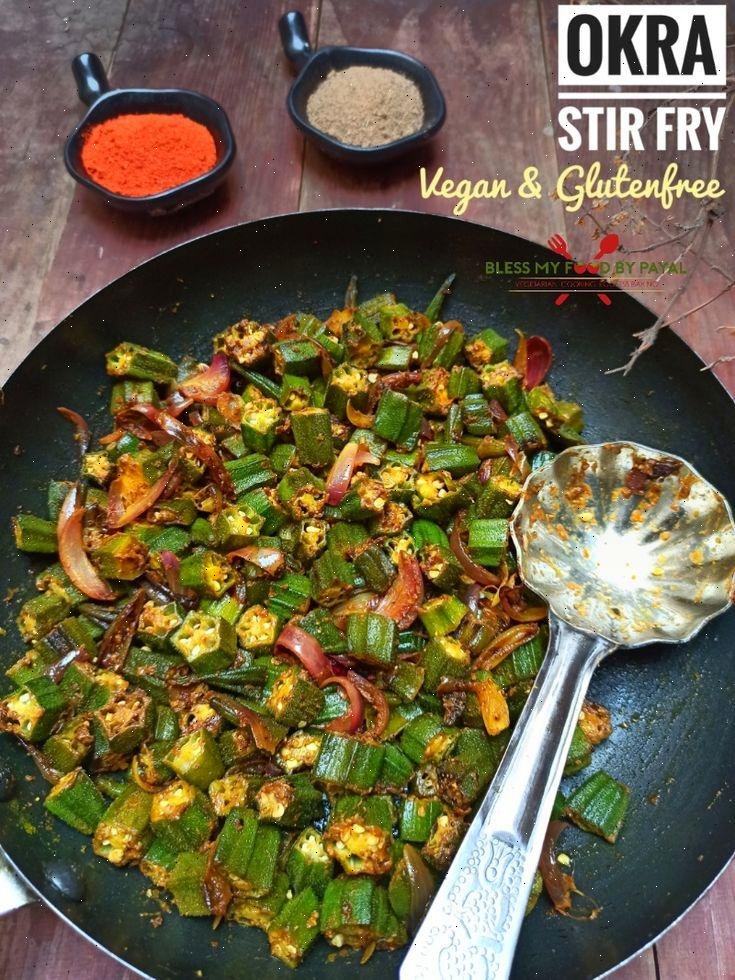bhindi: (16, 350, 501, 872)
